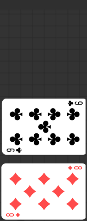9C: (5, 147, 23, 154)
